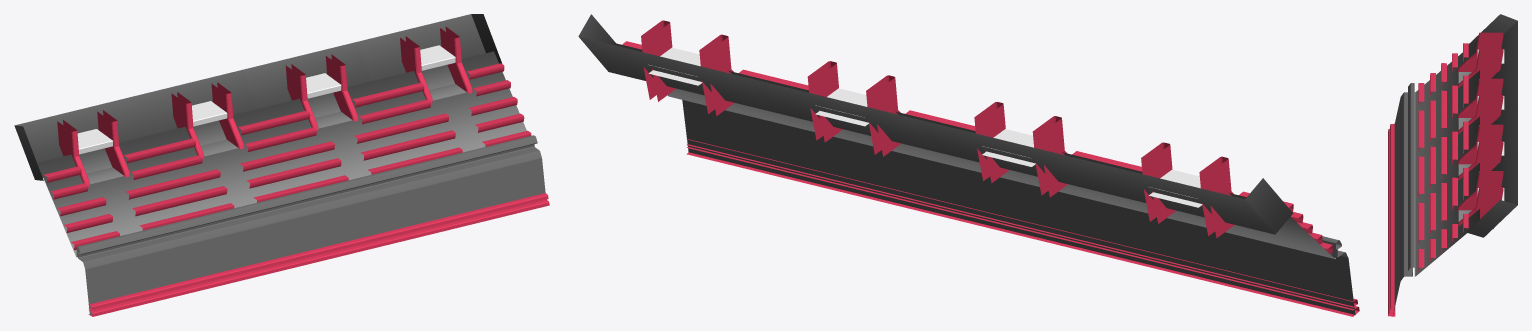
The model's file is SMrinkWall4x1V0.3.fbx.
The picture shows the model from 3 angles, left to right: view 1: azimuth 30°, elevation 25°; view 2: azimuth 150°, elevation 25°; view 3: azimuth 270°, elevation 25°; orthographic projection. The views are drawn at different scales.
Parts seen in each view (by area): view 1: SMrinkWall1x4; view 2: SMrinkWall1x4; view 3: SMrinkWall1x4.
Boxes of the visible parts, left/top/right/bottom form: SMrinkWall1x4: left=14, top=14, right=549, bottom=316; SMrinkWall1x4: left=578, top=14, right=1359, bottom=316; SMrinkWall1x4: left=1388, top=14, right=1517, bottom=316.
Bounding box in the file's own units: 4030 × 1191 × 1189.
